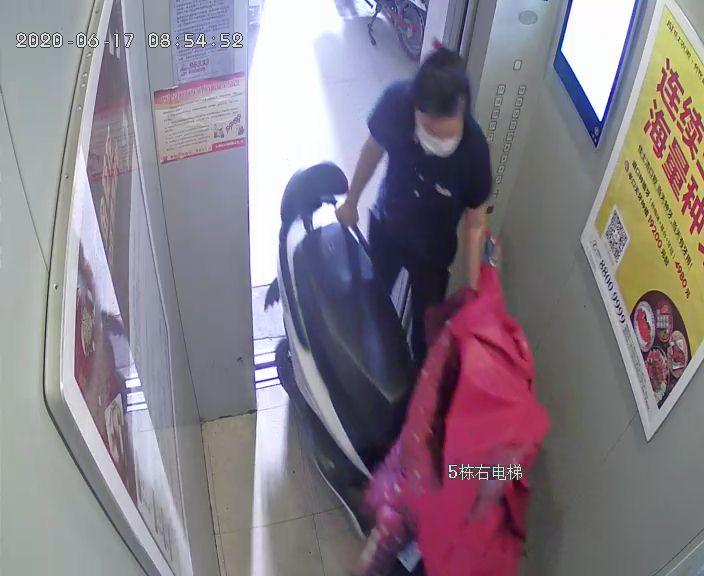Electric-bicycle: (266, 159, 541, 571)
